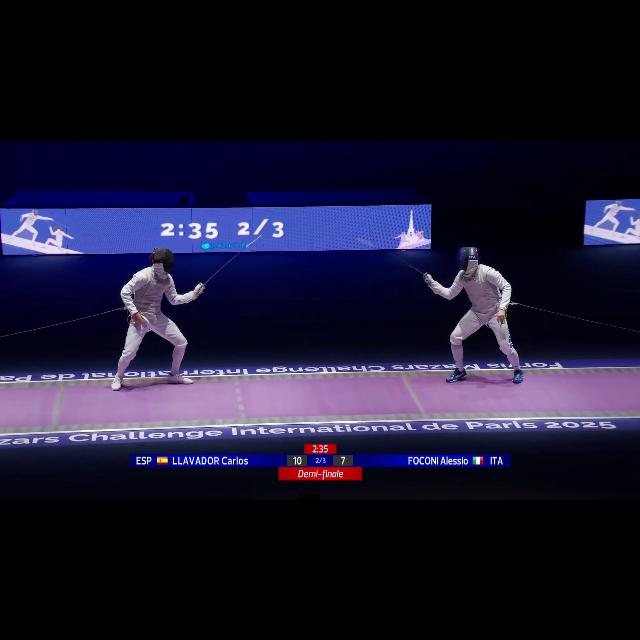blade: (192, 234, 266, 290), (356, 234, 430, 282)
